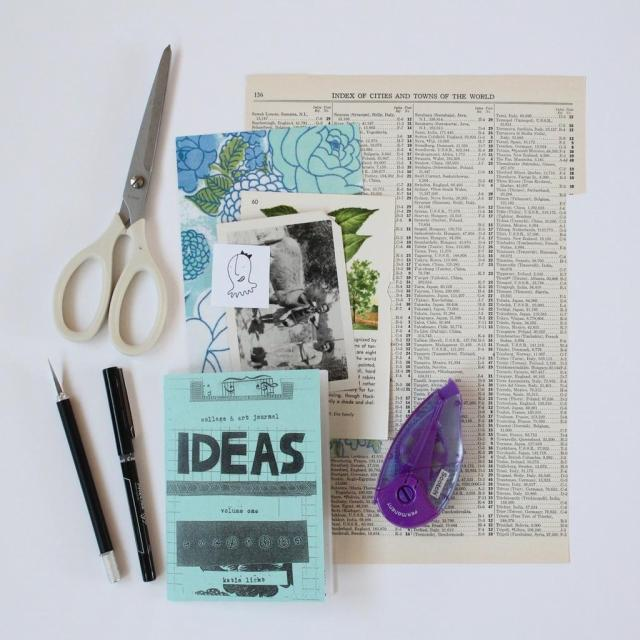scissor: (50, 35, 170, 356)
